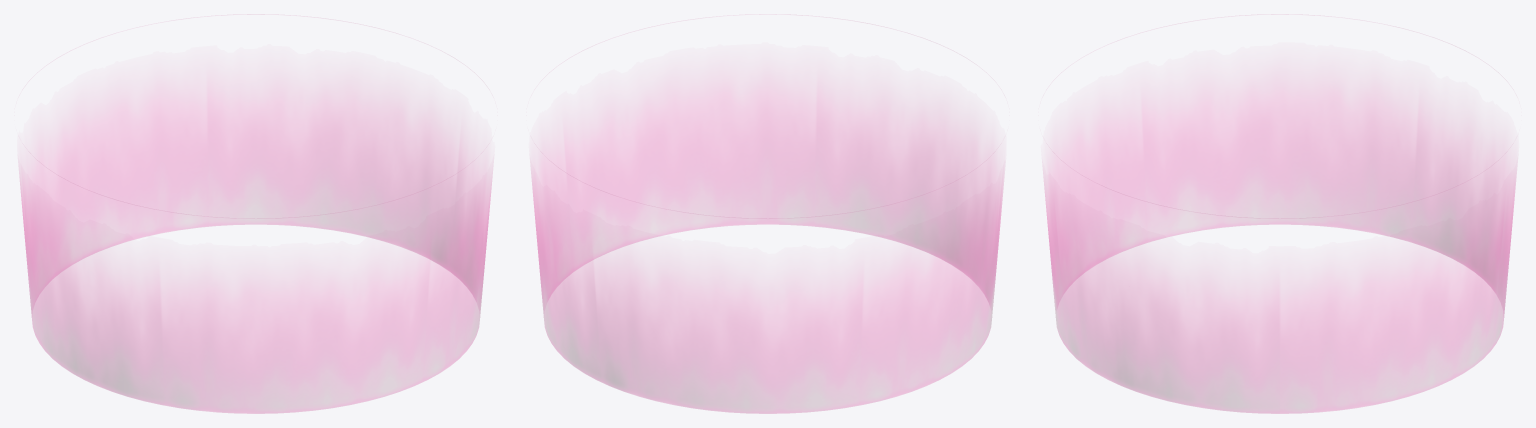
File: shock_wall_rose.glb
3 renders of one model, left to right at view 1: azimuth 30°, elevation 25°; view 2: azimuth 150°, elevation 25°; view 3: azimuth 270°, elevation 25°, orthographic.
Parts seen in each view (by area): view 1: wall; view 2: wall; view 3: wall.
Boxes of the visible parts, left/top/right/bottom form: wall: left=19, top=14, right=492, bottom=413; wall: left=531, top=15, right=1003, bottom=413; wall: left=1044, top=14, right=1516, bottom=413.
Bounding box in the file's own units: 2.16 × 1 × 2.16.
Materials: 1 (1 with a texture image).
